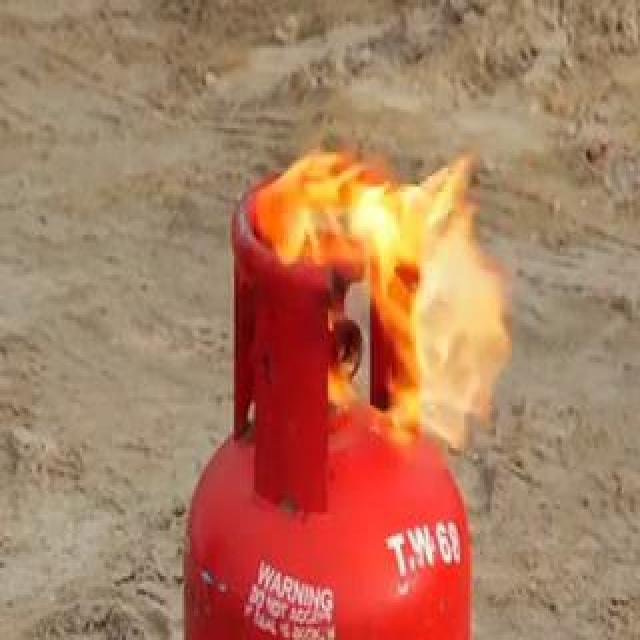Fire: (245, 58, 527, 466)
